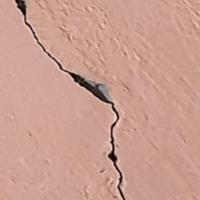crack: (9, 0, 141, 199)
